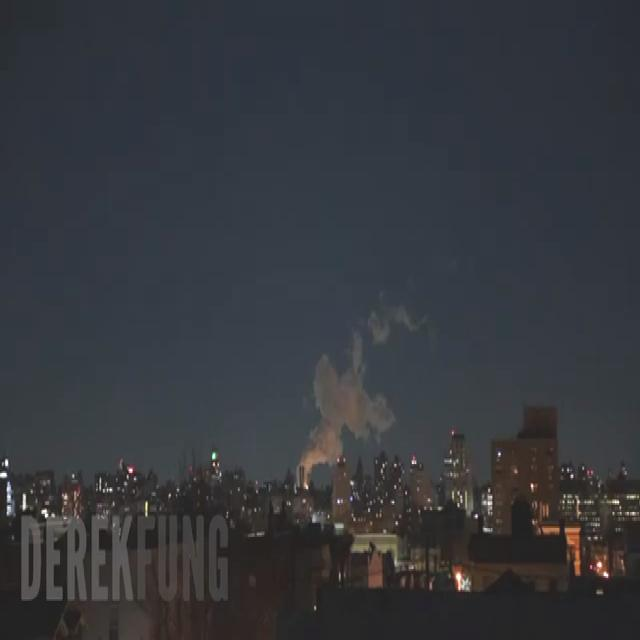smoke: (299, 331, 394, 469)
